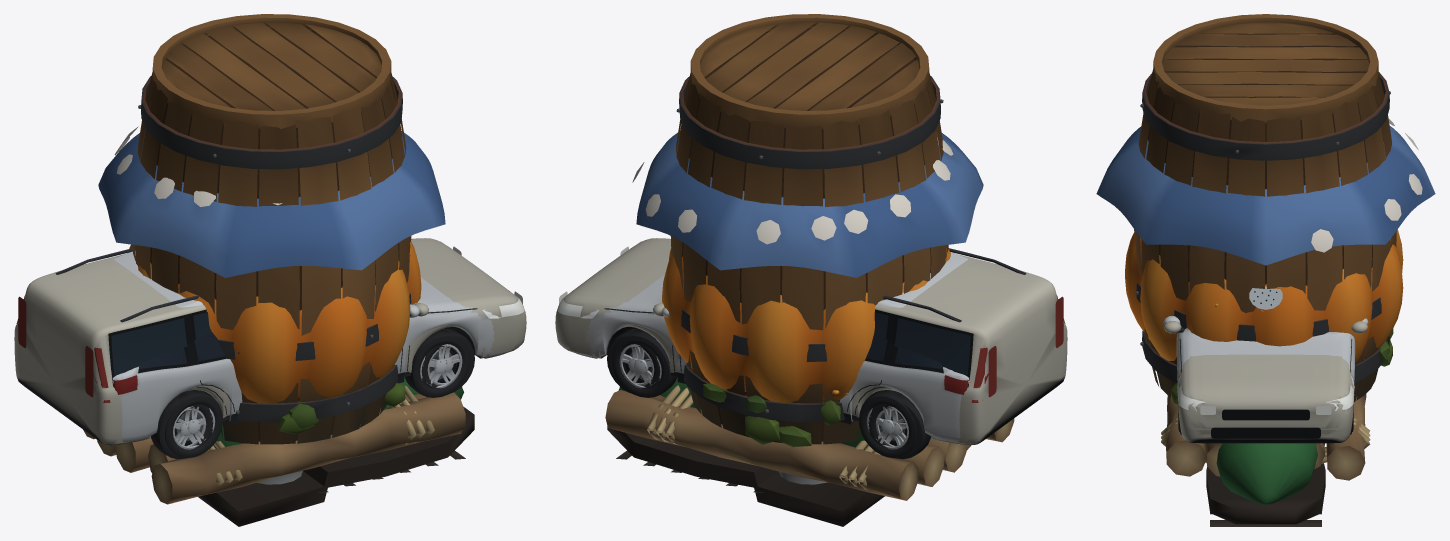
File: props.glb
3 views of the same model, side by side, from view 1: azimuth 30°, elevation 25°; view 2: azimuth 150°, elevation 25°; view 3: azimuth 270°, elevation 25° (orthographic). The views are drawn at different scales.
Parts seen in each view (by area): view 1: tunna, bil-gra, paraply, pumpa, flotte, bil, stovel, bil-hjul-fram-par, bil-hjul-bak-par, bil-gra-hjul-bak-par, bil-gra-hjul-fram-par; view 2: tunna, bil-gra, paraply, pumpa, flotte, bil, stovel, bil-hjul-fram-par, bil-hjul-bak-par, bil-gra-hjul-bak-par, bil-gra-hjul-fram-par; view 3: tunna, paraply, bil-gra, pumpa, stovel, flotte, bil, kanna.
Part boxes in pixels (left/top/right/bottom): tunna: left=132, top=14, right=411, bottom=444; bil-gra: left=14, top=238, right=526, bottom=445; paraply: left=98, top=126, right=445, bottom=277; pumpa: left=129, top=241, right=421, bottom=403; flotte: left=83, top=385, right=465, bottom=504; bil: left=112, top=251, right=505, bottom=442; stovel: left=198, top=377, right=474, bottom=526; bil-hjul-fram-par: left=404, top=328, right=470, bottom=397; bil-hjul-bak-par: left=165, top=390, right=222, bottom=457; bil-gra-hjul-bak-par: left=151, top=396, right=213, bottom=459; bil-gra-hjul-fram-par: left=421, top=328, right=474, bottom=393; tunna: left=670, top=14, right=948, bottom=447; bil-gra: left=555, top=238, right=1067, bottom=445; paraply: left=632, top=131, right=983, bottom=277; pumpa: left=662, top=248, right=950, bottom=402; flotte: left=605, top=385, right=1014, bottom=500; bil: left=576, top=252, right=969, bottom=442; stovel: left=607, top=377, right=884, bottom=526; bil-hjul-fram-par: left=611, top=328, right=677, bottom=397; bil-hjul-bak-par: left=859, top=390, right=916, bottom=457; bil-gra-hjul-bak-par: left=868, top=396, right=930, bottom=459; bil-gra-hjul-fram-par: left=607, top=328, right=660, bottom=393; tunna: left=1134, top=14, right=1396, bottom=404; paraply: left=1096, top=118, right=1435, bottom=265; bil-gra: left=1164, top=321, right=1367, bottom=443; pumpa: left=1125, top=229, right=1403, bottom=362; stovel: left=1206, top=443, right=1325, bottom=526; flotte: left=1161, top=394, right=1370, bottom=480; bil: left=1163, top=316, right=1368, bottom=392; kanna: left=1249, top=286, right=1282, bottom=311.
Size of the model in its own units: 4.72 by 4.41 by 3.4.
